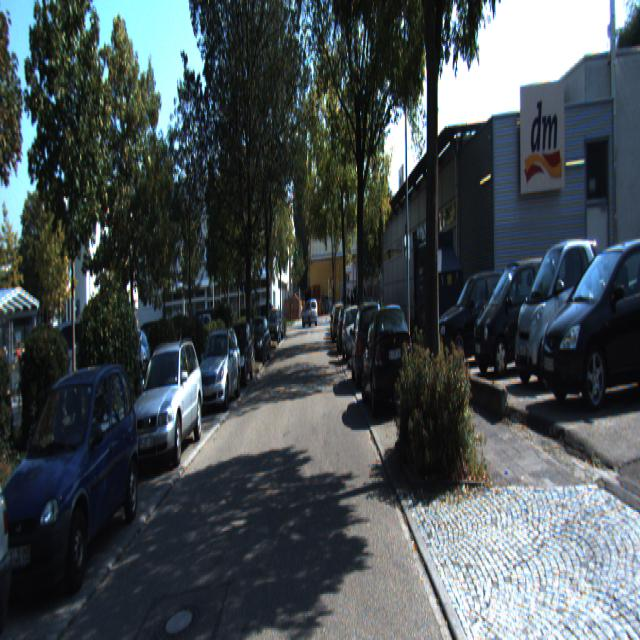Car: (0, 356, 146, 615), (536, 228, 640, 426), (511, 230, 618, 398), (468, 246, 570, 384), (126, 336, 204, 476), (436, 264, 523, 373), (360, 300, 414, 422), (194, 323, 242, 411), (350, 297, 386, 391)
